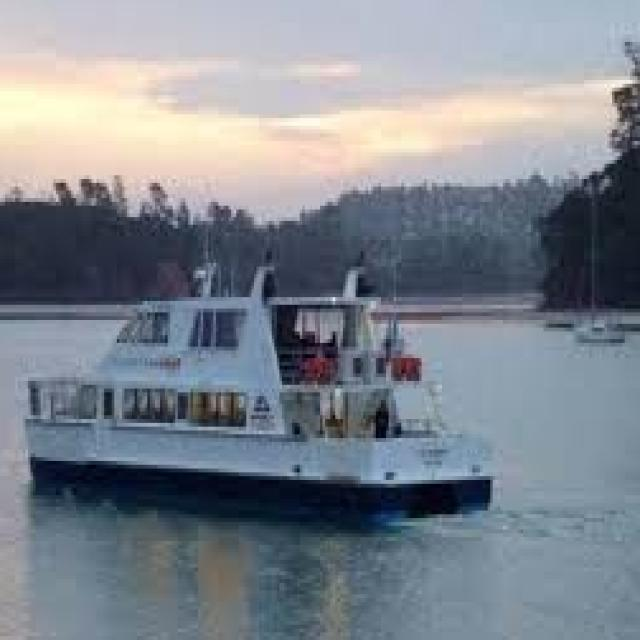passenger ship: (16, 220, 494, 508)
